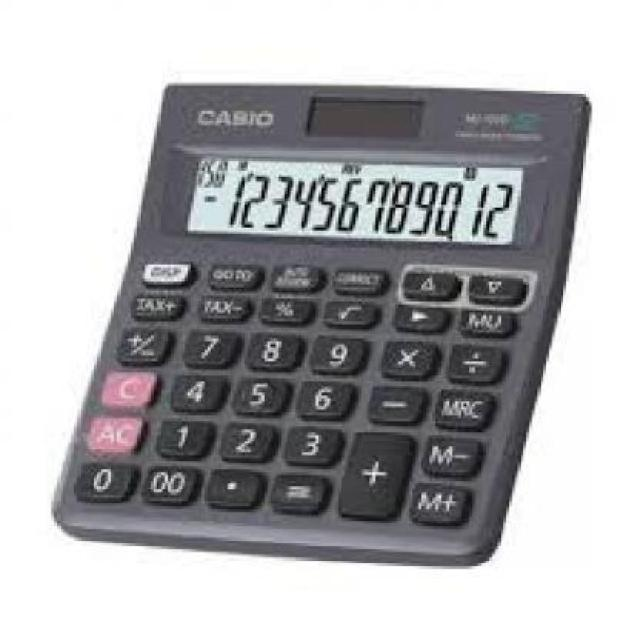display: (186, 155, 525, 243)
frame: (226, 172, 516, 240), (147, 466, 185, 498), (194, 157, 229, 190), (310, 382, 336, 420), (233, 424, 261, 457), (194, 331, 222, 364), (298, 427, 325, 459), (169, 419, 195, 452), (183, 376, 209, 408), (86, 466, 115, 494), (245, 378, 272, 408), (258, 335, 284, 365), (324, 339, 348, 368)
gauge: (49, 80, 592, 568)
